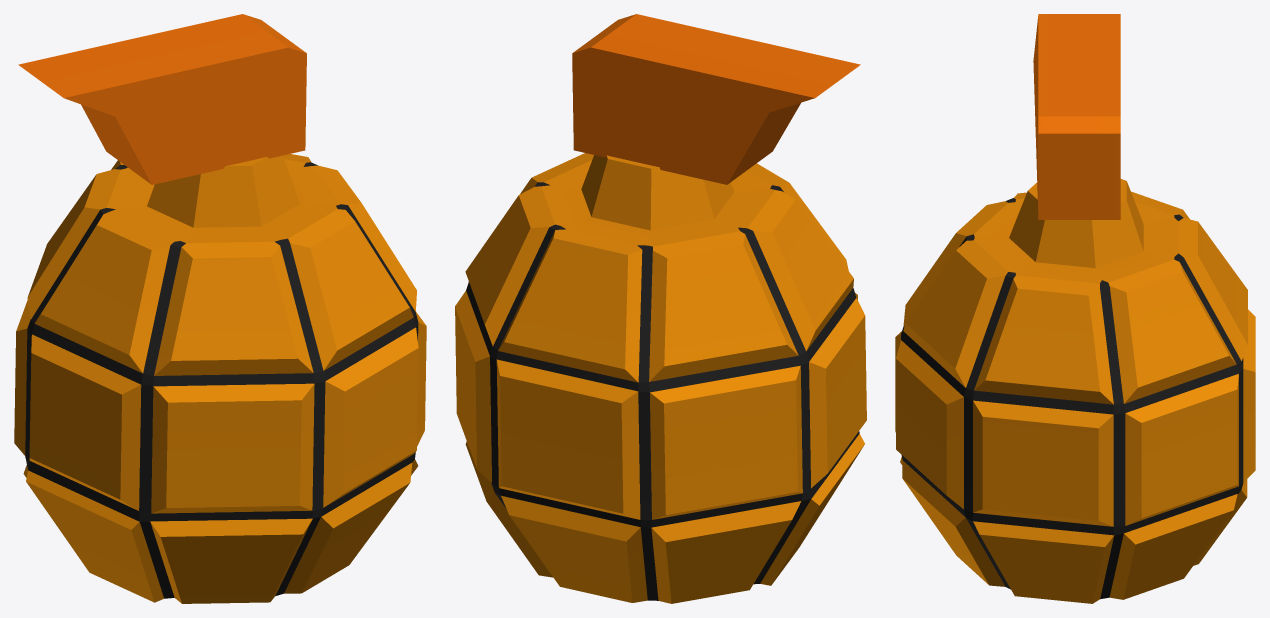
Rendered from cluster bomb.fbx.
3 views of the same model, side by side, from view 1: azimuth 30°, elevation 25°; view 2: azimuth 150°, elevation 25°; view 3: azimuth 270°, elevation 25° (orthographic). The views are drawn at different scales.
Parts seen in each view (by area): view 1: cluster; view 2: cluster; view 3: cluster.
Part boxes in pixels (bbox=[...]): cluster: bbox=[14, 14, 426, 603]; cluster: bbox=[455, 14, 866, 603]; cluster: bbox=[895, 14, 1255, 603].
Size of the model in its own units: 105 by 144 by 102.
1 material, 1 textured.
